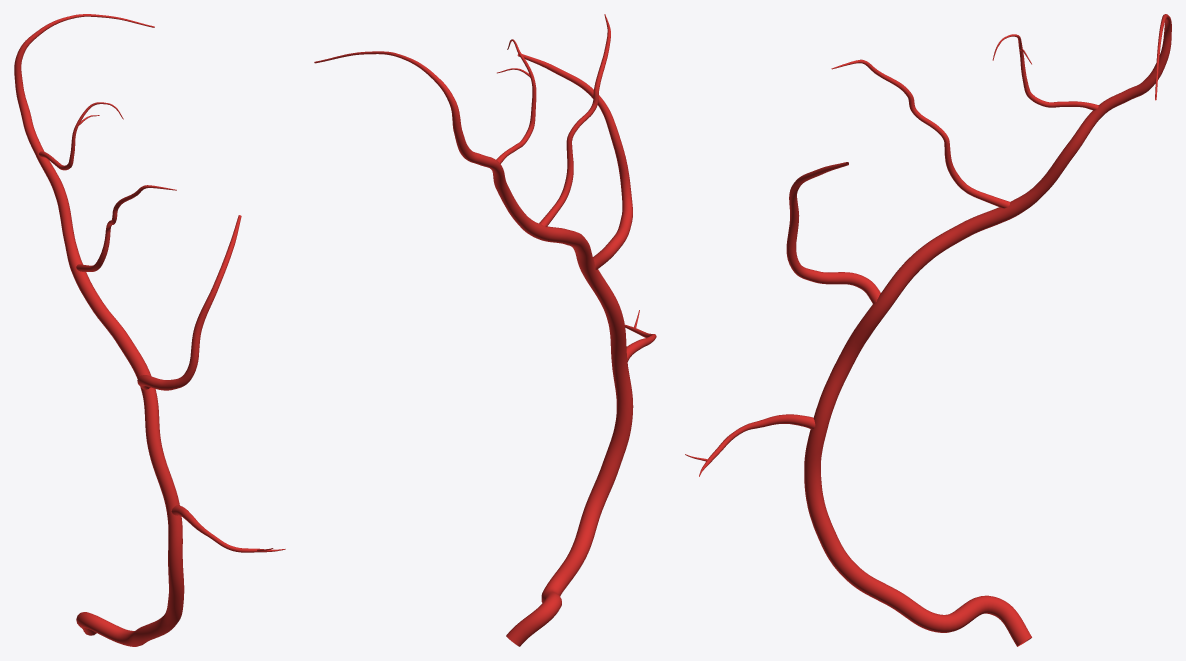
File: circulatorio-callosomarginal-artery-l.glb
The picture shows the model from 3 angles, left to right: view 1: azimuth 30°, elevation 25°; view 2: azimuth 150°, elevation 25°; view 3: azimuth 270°, elevation 25°; orthographic projection. The views are drawn at different scales.
Parts seen in each view (by area): view 1: Callosomarginal artery.l, Frontal branches of callosomarginal artery.l; view 2: Callosomarginal artery.l, Frontal branches of callosomarginal artery.l; view 3: Callosomarginal artery.l, Frontal branches of callosomarginal artery.l.
Boxes of the visible parts, x1=… form: Callosomarginal artery.l: x1=14, y1=14, x2=285, y2=646; Frontal branches of callosomarginal artery.l: x1=137, y1=215, x2=241, y2=390; Callosomarginal artery.l: x1=314, y1=14, x2=656, y2=646; Frontal branches of callosomarginal artery.l: x1=517, y1=54, x2=632, y2=269; Callosomarginal artery.l: x1=685, y1=14, x2=1171, y2=646; Frontal branches of callosomarginal artery.l: x1=786, y1=162, x2=880, y2=304.
Size of the model in its own units: 0.0214 by 0.0779 by 0.053.
